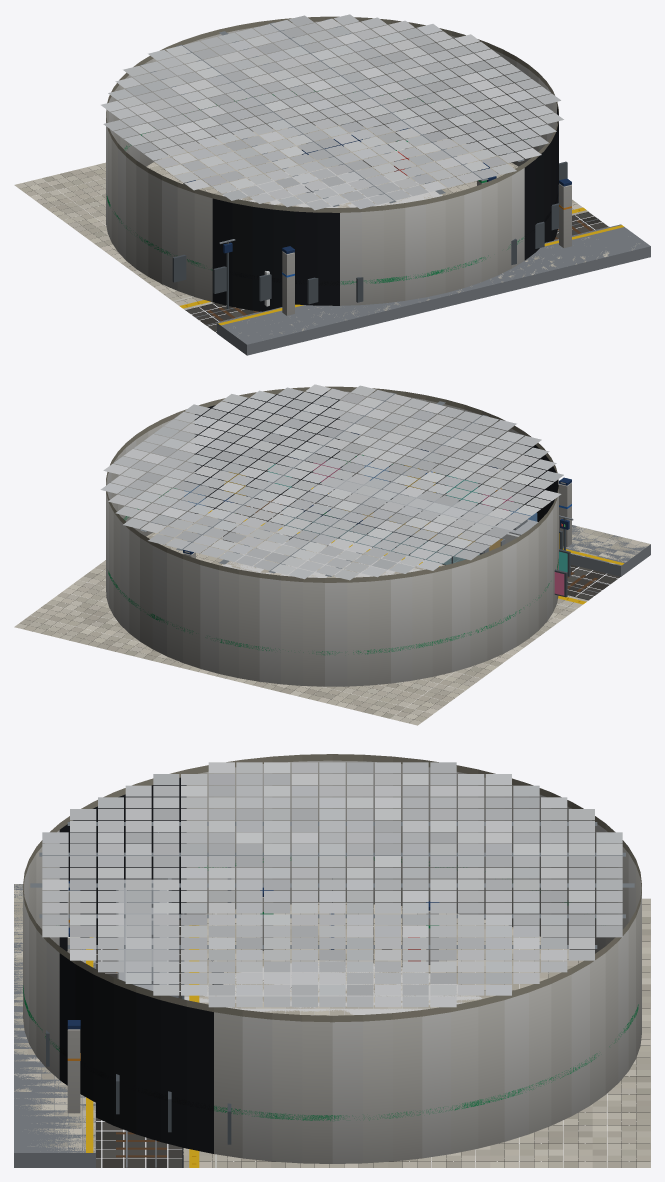
File: arena.fbx
The picture shows the model from 3 angles, top to bottom: view 1: azimuth 30°, elevation 25°; view 2: azimuth 150°, elevation 25°; view 3: azimuth 270°, elevation 25°; orthographic projection. The views are drawn at different scales.
Parts seen in each view (by area): view 1: arena_ceiling, arena_backdrop, arena, arena_props, Col_Ground; view 2: arena_ceiling, arena_backdrop, arena, arena_props, Col_Ground; view 3: arena_ceiling, arena_backdrop, arena, arena_props, Col_Ground.
Boxes of the visible parts, x1,y1,x2,y2 form: arena_ceiling: (101,14,563,210); arena_backdrop: (106,16,567,311); arena: (14,125,650,355); arena_props: (183,128,571,315); Col_Ground: (222,168,441,207); arena_ceiling: (100,384,563,580); arena_backdrop: (106,386,570,686); arena: (14,484,650,725); arena_props: (183,432,573,564); Col_Ground: (222,538,441,577); arena_ceiling: (30,762,634,1007); arena_backdrop: (23,754,641,1163); arena: (14,884,650,1167); arena_props: (67,832,439,1113); Col_Ground: (184,961,482,1015).
Size of the model in its own units: 35 by 9.01 by 34.99.
